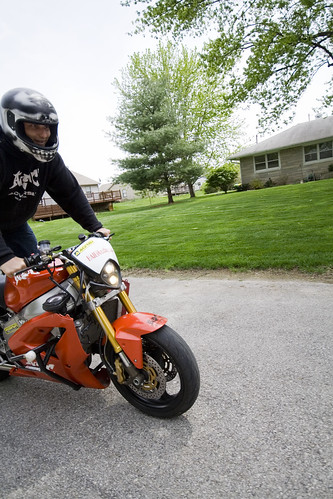helmet: (0, 74, 57, 159)
